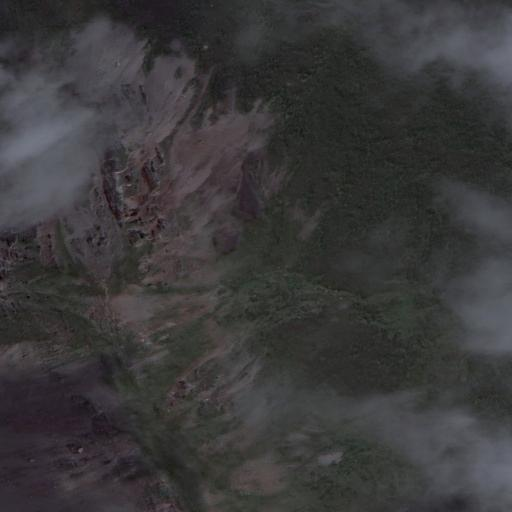landslide: (113, 56, 263, 351)
